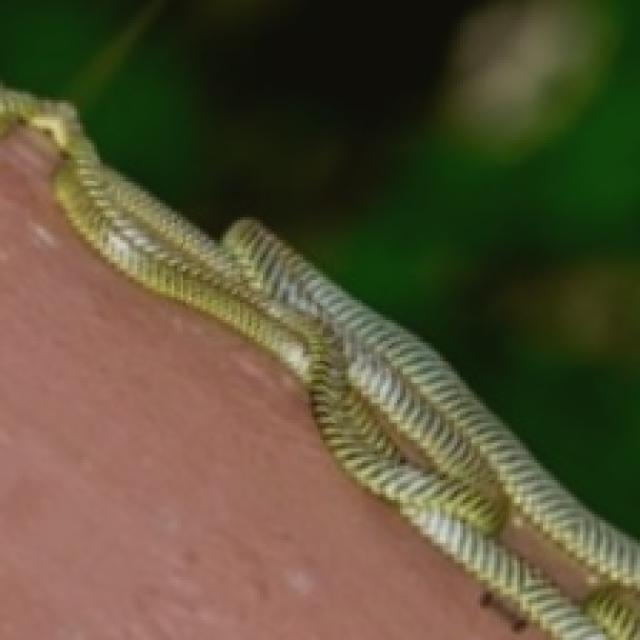paradise tree snake: (0, 86, 637, 637)
